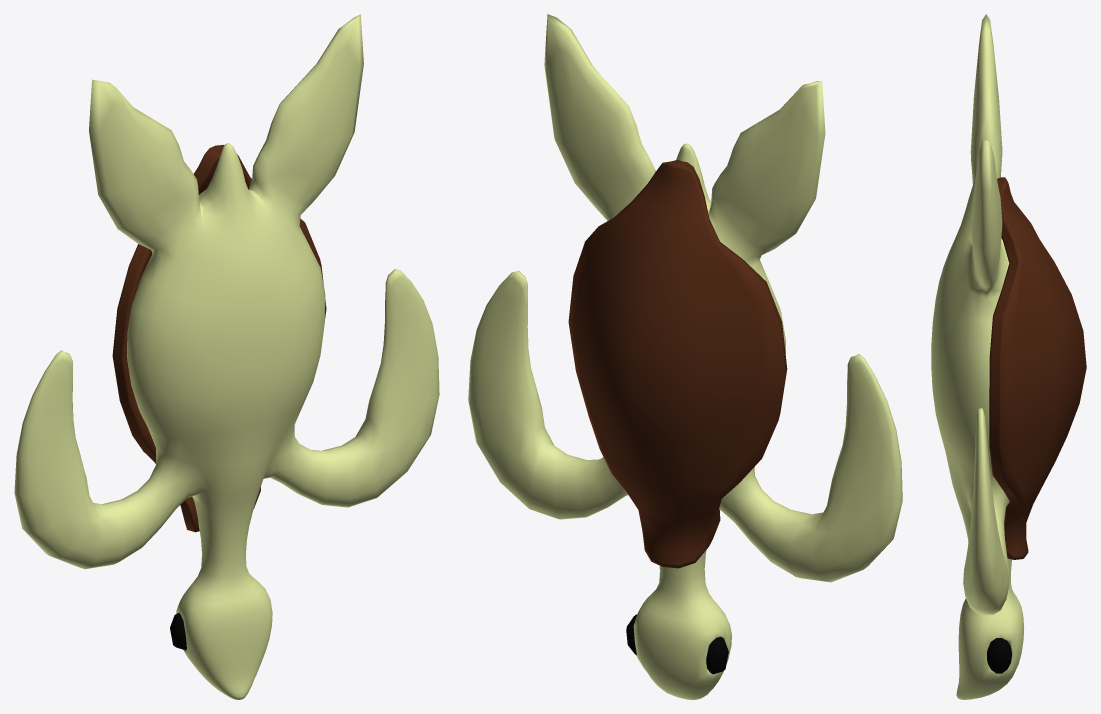
Rendered from Turtle.fbx.
3 renders of one model, left to right at view 1: azimuth 30°, elevation 25°; view 2: azimuth 150°, elevation 25°; view 3: azimuth 270°, elevation 25°, orthographic. The views are drawn at different scales.
Visible parts, largest first — view 1: Turtle; view 2: Turtle; view 3: Turtle.
Boxes of the visible parts, x1,y1,x2,y2 form: Turtle: (14,14,439,699); Turtle: (468,14,902,699); Turtle: (931,14,1086,699).
Size of the model in its own units: 4.37 by 6.37 by 1.44.
